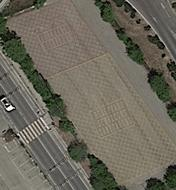parkingspot: (6, 143, 55, 190)
